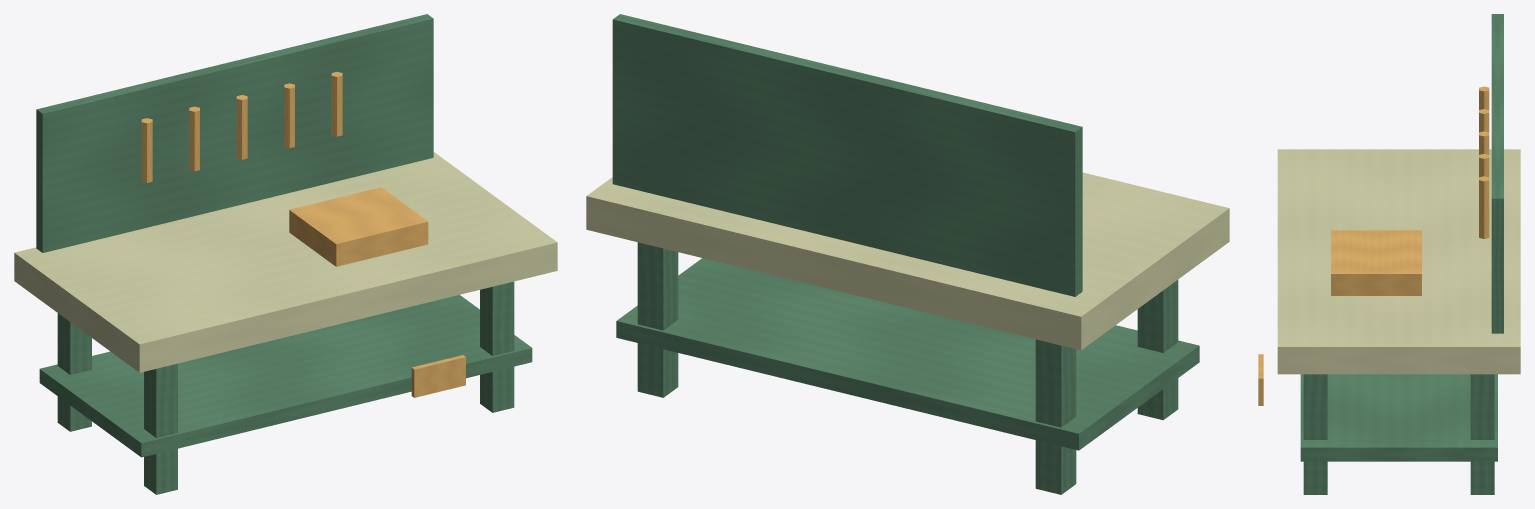
Rendered from atlas100-s008-a01.lod1.glb.
The picture shows the model from 3 angles, left to right: view 1: azimuth 30°, elevation 25°; view 2: azimuth 150°, elevation 25°; view 3: azimuth 270°, elevation 25°; orthographic projection. The views are drawn at different scales.
Visible parts, largest first — view 1: atlas100-s008-a01:part-004, atlas100-s008-a01:part-006, atlas100-s008-a01:part-005, atlas100-s008-a01:part-012, atlas100-s008-a01:part-003, atlas100-s008-a01:part-001, atlas100-s008-a01:part-000, atlas100-s008-a01:part-013, atlas100-s008-a01:part-007, atlas100-s008-a01:part-009, atlas100-s008-a01:part-011, atlas100-s008-a01:part-008 (+1 smaller); view 2: atlas100-s008-a01:part-006, atlas100-s008-a01:part-005, atlas100-s008-a01:part-004, atlas100-s008-a01:part-002, atlas100-s008-a01:part-000, atlas100-s008-a01:part-001; view 3: atlas100-s008-a01:part-004, atlas100-s008-a01:part-005, atlas100-s008-a01:part-012, atlas100-s008-a01:part-006, atlas100-s008-a01:part-002, atlas100-s008-a01:part-003, atlas100-s008-a01:part-011, atlas100-s008-a01:part-013.
Boxes of the visible parts, bbox=[...] form: atlas100-s008-a01:part-004: bbox=[14, 152, 557, 372]; atlas100-s008-a01:part-006: bbox=[36, 14, 433, 252]; atlas100-s008-a01:part-005: bbox=[39, 295, 532, 457]; atlas100-s008-a01:part-012: bbox=[289, 187, 428, 266]; atlas100-s008-a01:part-003: bbox=[480, 281, 514, 412]; atlas100-s008-a01:part-001: bbox=[144, 363, 177, 494]; atlas100-s008-a01:part-000: bbox=[57, 313, 91, 431]; atlas100-s008-a01:part-013: bbox=[411, 355, 465, 397]; atlas100-s008-a01:part-007: bbox=[141, 118, 152, 182]; atlas100-s008-a01:part-009: bbox=[236, 95, 247, 159]; atlas100-s008-a01:part-011: bbox=[331, 71, 342, 136]; atlas100-s008-a01:part-008: bbox=[189, 106, 199, 171]; atlas100-s008-a01:part-006: bbox=[612, 14, 1082, 296]; atlas100-s008-a01:part-005: bbox=[616, 258, 1199, 450]; atlas100-s008-a01:part-004: bbox=[586, 172, 1229, 350]; atlas100-s008-a01:part-002: bbox=[637, 242, 678, 397]; atlas100-s008-a01:part-000: bbox=[1035, 339, 1076, 494]; atlas100-s008-a01:part-001: bbox=[1137, 279, 1178, 420]; atlas100-s008-a01:part-004: bbox=[1277, 149, 1520, 374]; atlas100-s008-a01:part-005: bbox=[1300, 374, 1497, 461]; atlas100-s008-a01:part-012: bbox=[1331, 230, 1421, 295]; atlas100-s008-a01:part-006: bbox=[1491, 14, 1503, 333]; atlas100-s008-a01:part-002: bbox=[1470, 374, 1494, 494]; atlas100-s008-a01:part-003: bbox=[1303, 374, 1327, 494]; atlas100-s008-a01:part-011: bbox=[1479, 176, 1489, 238]; atlas100-s008-a01:part-013: bbox=[1258, 354, 1263, 405].
Size of the model in its own units: 3.08 by 2.21 by 1.73.
3 materials, 3 textured.
